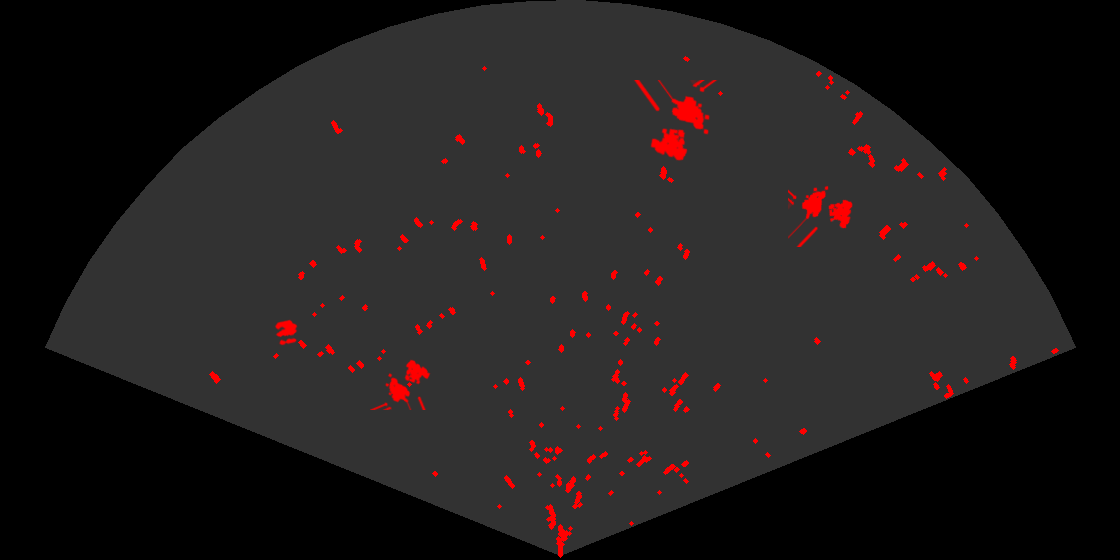ball: (273, 318, 299, 347)
cage: (632, 80, 719, 162), (788, 184, 854, 247), (370, 358, 432, 410)
